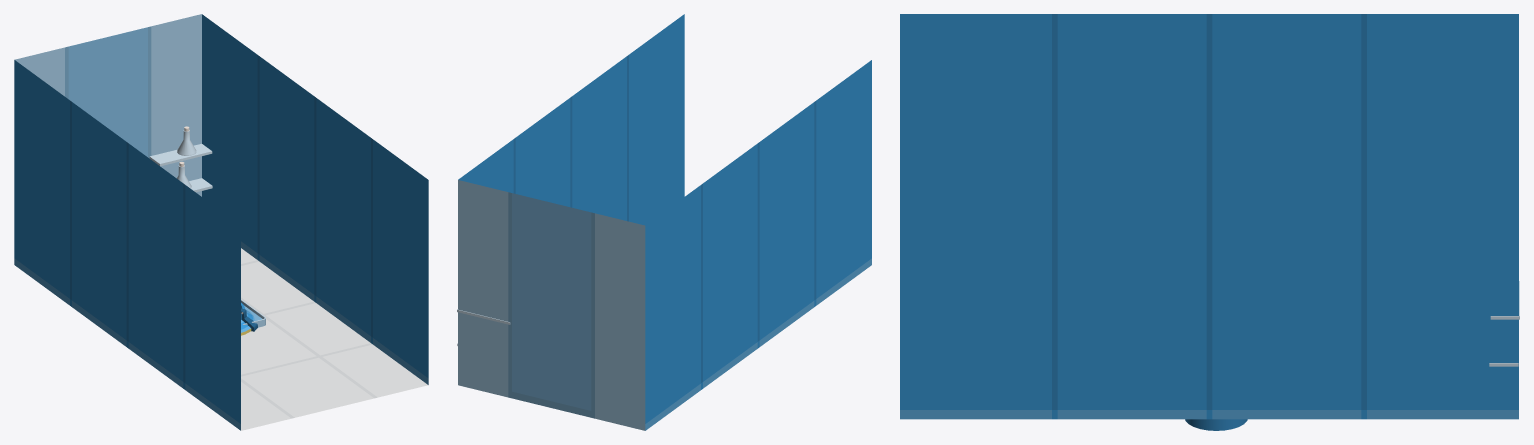
Rendered from Lobby.fbx.
3 views of the same model, side by side, from view 1: azimuth 30°, elevation 25°; view 2: azimuth 150°, elevation 25°; view 3: azimuth 270°, elevation 25° (orthographic). The views are drawn at different scales.
Visible parts, largest first — view 1: Lobby.Environment; view 2: Lobby.Environment; view 3: Lobby.Environment, Lobby.Platform.
Boxes of the visible parts, x1,y1,x2,y2 form: Lobby.Environment: [14, 14, 428, 430]; Lobby.Environment: [457, 14, 871, 430]; Lobby.Environment: [900, 14, 1519, 419]; Lobby.Platform: [1185, 419, 1247, 430].
Size of the model in its own units: 6.71 by 8.51 by 14.02.
